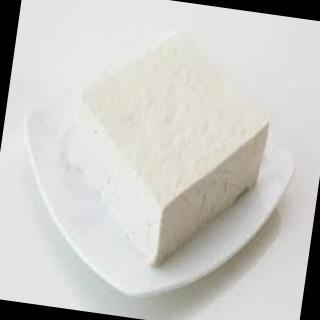Tahu: (23, 9, 310, 300)
